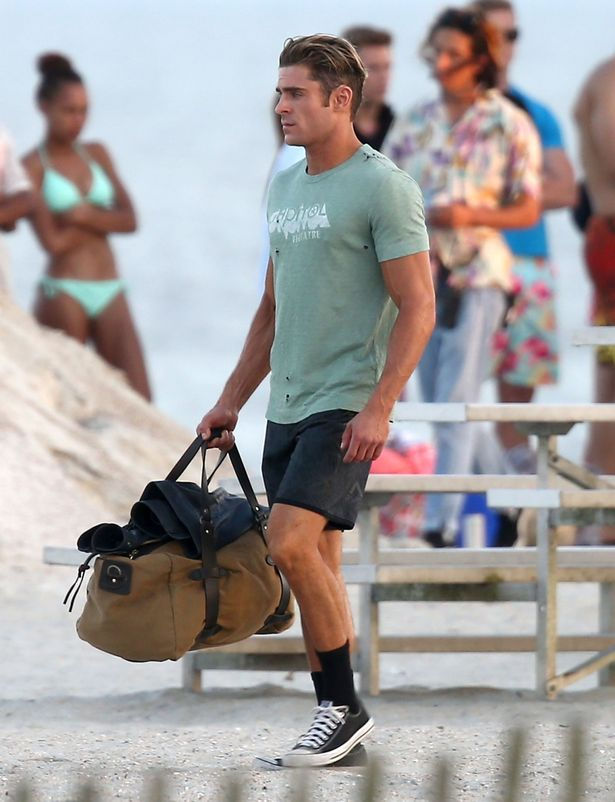Person: (59, 32, 440, 768)
